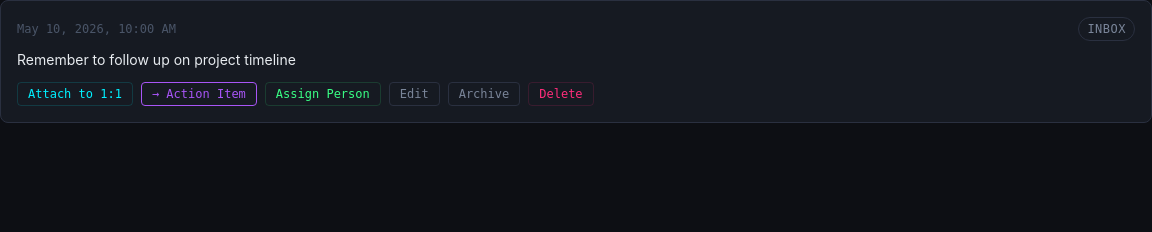
Test: QuickNoteCard › should exit edit mode without saving on cancel
Click the button with test id "quick-note-edit-btn" at (414, 94), box left=389, top=82, right=440, bottom=106
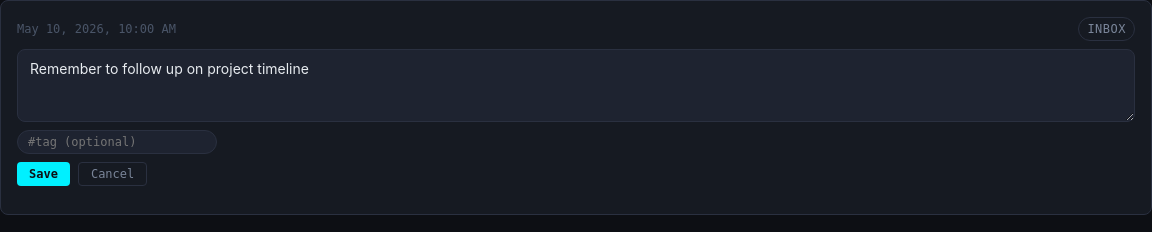
Replace the text in the text box with test id "quick-note-edit-text-input" with "Discarded" at (576, 86), box left=17, top=49, right=1135, bottom=122
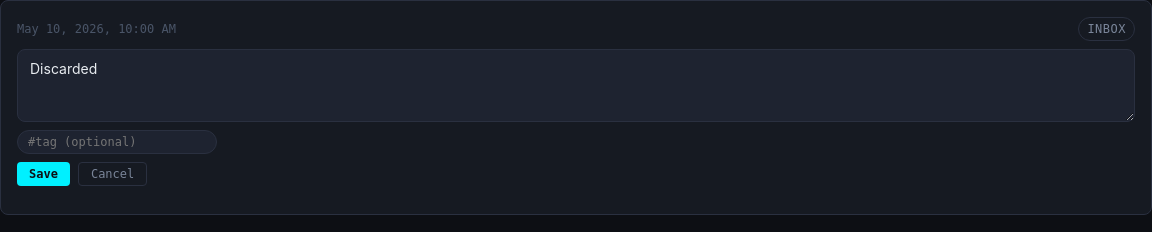
Click the button with test id "quick-note-edit-cancel-btn" at (113, 174), box left=78, top=162, right=147, bottom=186
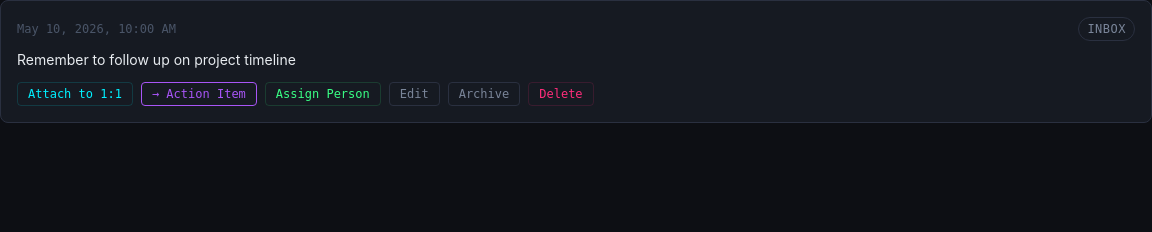
Result: the text box with test id "quick-note-edit-text-input" is gone
Result: the text with test id "quick-note-text" reads "Remember to follow up on project timeline" at left=17, top=51, right=296, bottom=68
